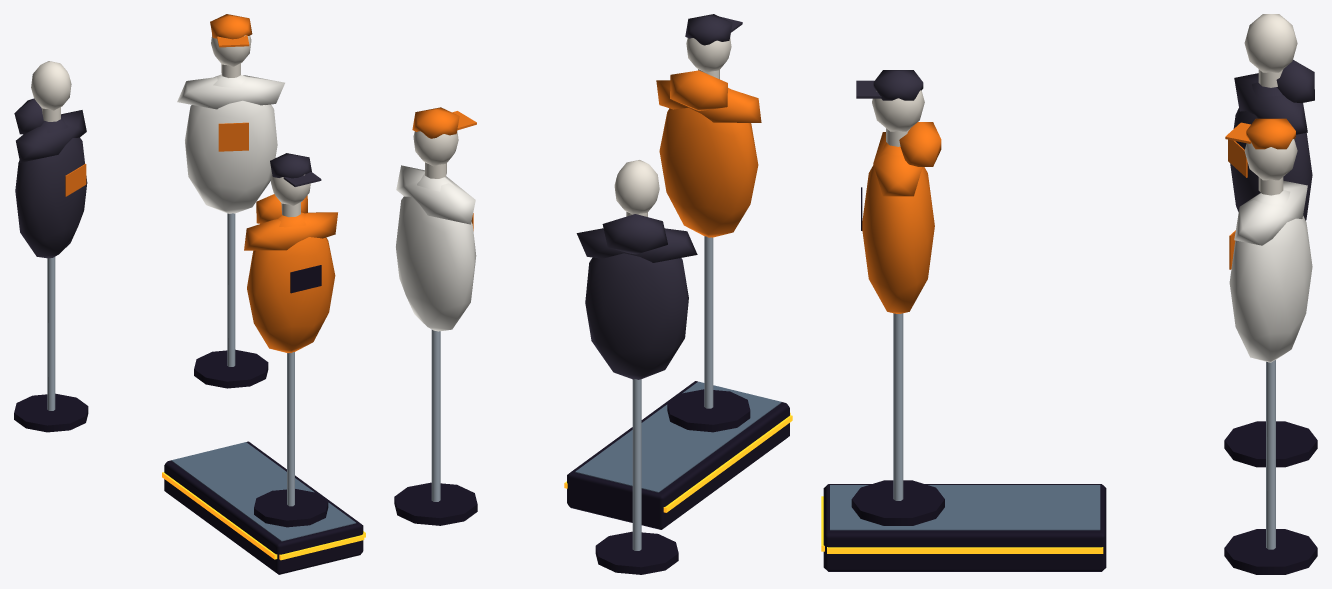
The model's file is station_special_ausstattung_1_3.glb.
3 renders of one model, left to right at view 1: azimuth 30°, elevation 25°; view 2: azimuth 150°, elevation 25°; view 3: azimuth 270°, elevation 25°, orthographic. The views are drawn at different scales.
Parts seen in each view (by area): view 1: station_special_ausstattung_1_3; view 2: station_special_ausstattung_1_3; view 3: station_special_ausstattung_1_3.
Part boxes in pixels (x1=…): station_special_ausstattung_1_3: x1=14, y1=14, x2=365, y2=574; station_special_ausstattung_1_3: x1=394, y1=14, x2=792, y2=574; station_special_ausstattung_1_3: x1=821, y1=14, x2=1317, y2=574.
Size of the model in its own units: 1.21 by 1.72 by 1.6.
